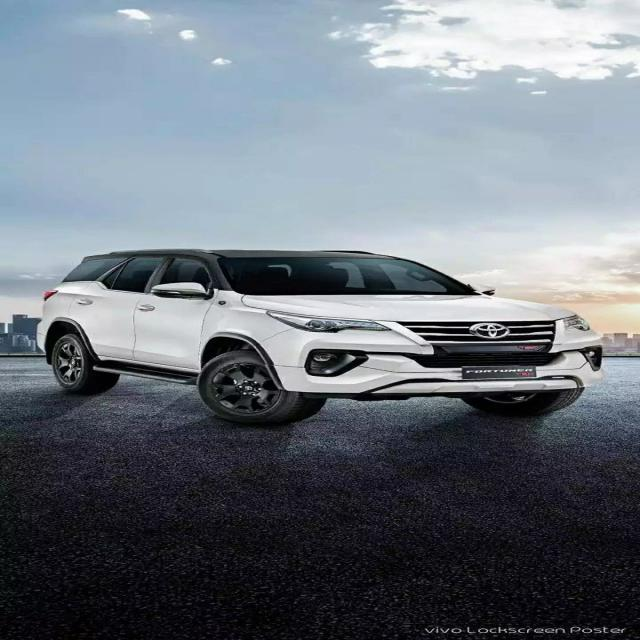light_vehicle: (35, 249, 608, 426)
